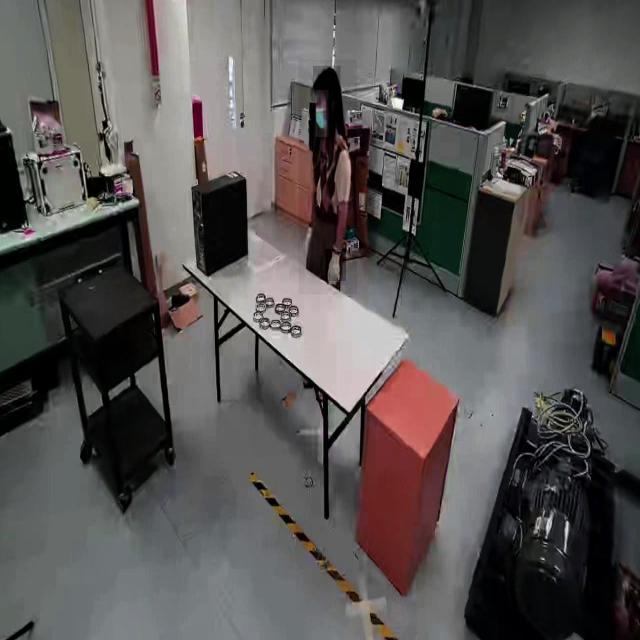face_mask: (316, 90, 328, 137)
hand_glove: (326, 249, 346, 282)
head_nohelmet: (313, 66, 341, 90)
person: (298, 60, 358, 295)
